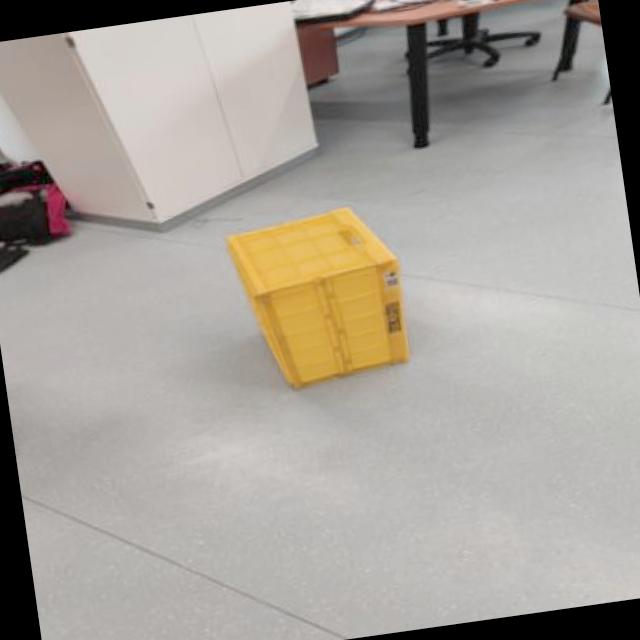box: (160, 168, 484, 427)
